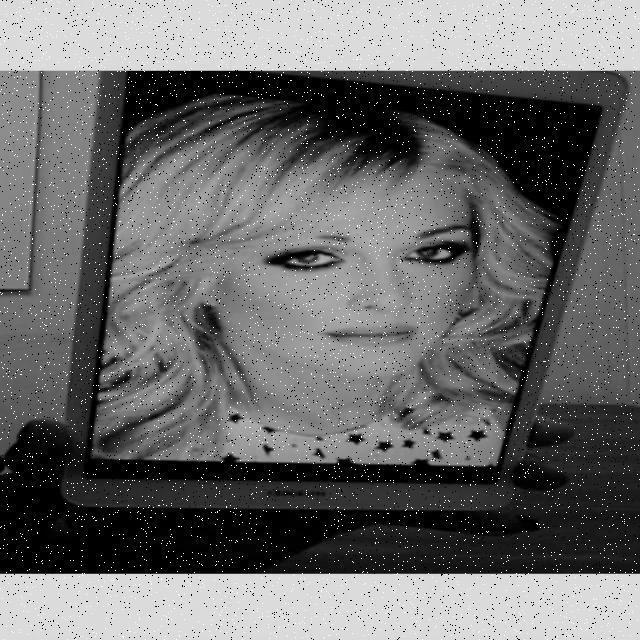fake: (45, 70, 630, 522)
